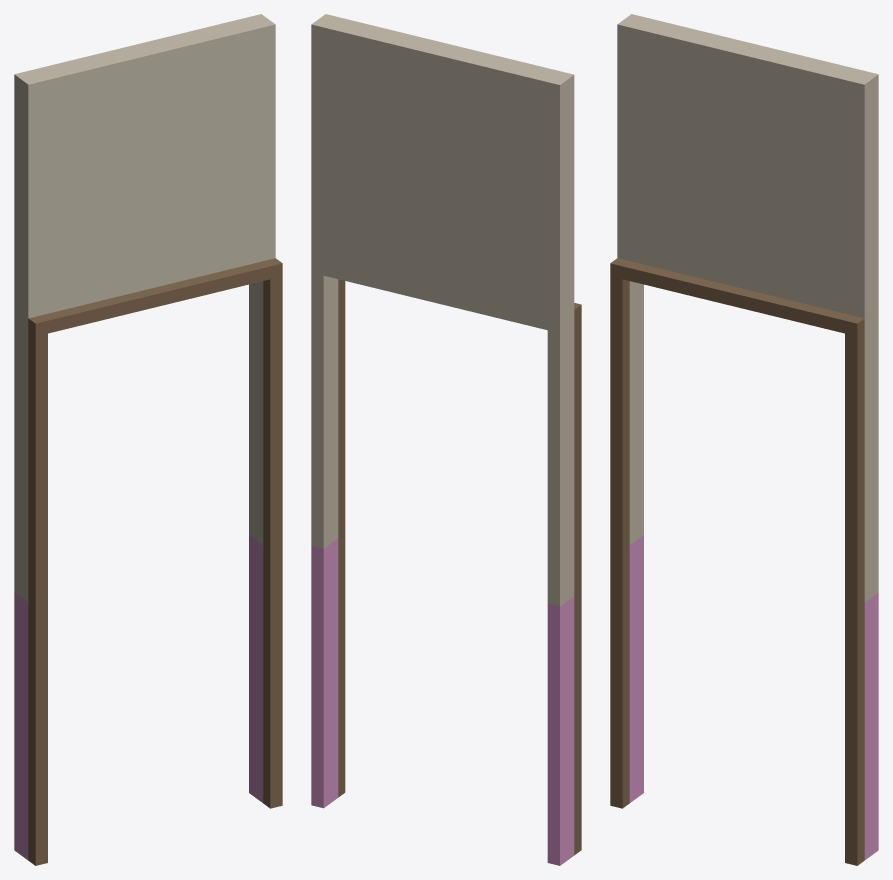
Rendered from Mesh_DoorHole2Colors_08.fbx.
3 views of the same model, side by side, from view 1: azimuth 30°, elevation 25°; view 2: azimuth 150°, elevation 25°; view 3: azimuth 330°, elevation 25° (orthographic).
Visible parts, largest first — view 1: Mesh_DoorHole2Colors_08; view 2: Mesh_DoorHole2Colors_08; view 3: Mesh_DoorHole2Colors_08.
Boxes of the visible parts, x1=… form: Mesh_DoorHole2Colors_08: x1=14, y1=14, x2=282, y2=865; Mesh_DoorHole2Colors_08: x1=311, y1=14, x2=581, y2=865; Mesh_DoorHole2Colors_08: x1=610, y1=14, x2=878, y2=865.
Bounding box in the file's own units: 1 × 3 × 0.15.
